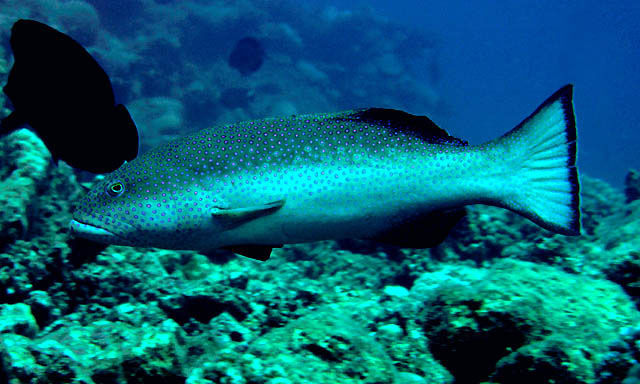fish: (70, 82, 583, 251)
